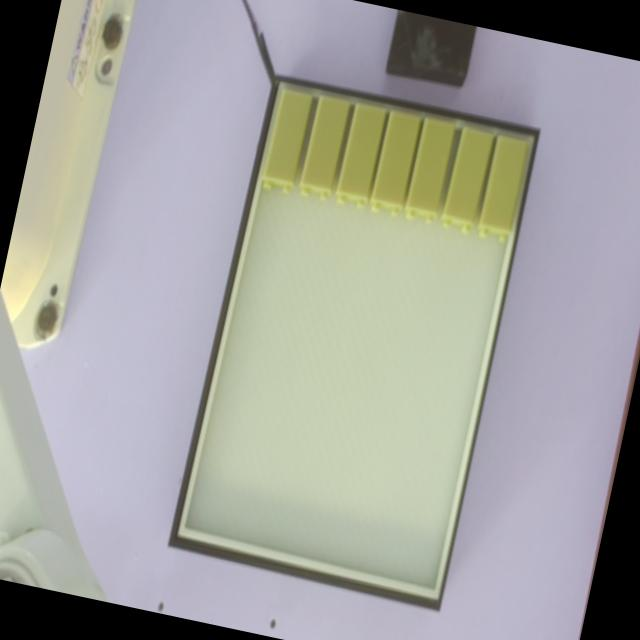bateria: (440, 125, 494, 232), (368, 108, 422, 215), (334, 100, 388, 207), (298, 92, 352, 199), (403, 116, 456, 223), (261, 85, 314, 192), (477, 134, 529, 240)
mesa: (167, 73, 540, 611)
